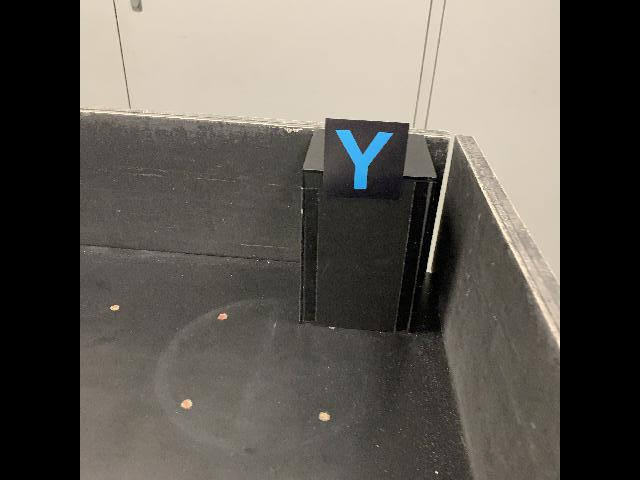alphabet_y: (322, 115, 411, 202)
